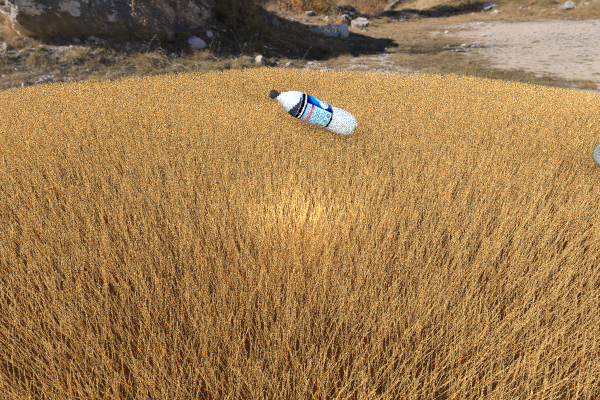bottle: (269, 89, 357, 136)
can: (148, 92, 187, 118), (592, 130, 600, 170)
